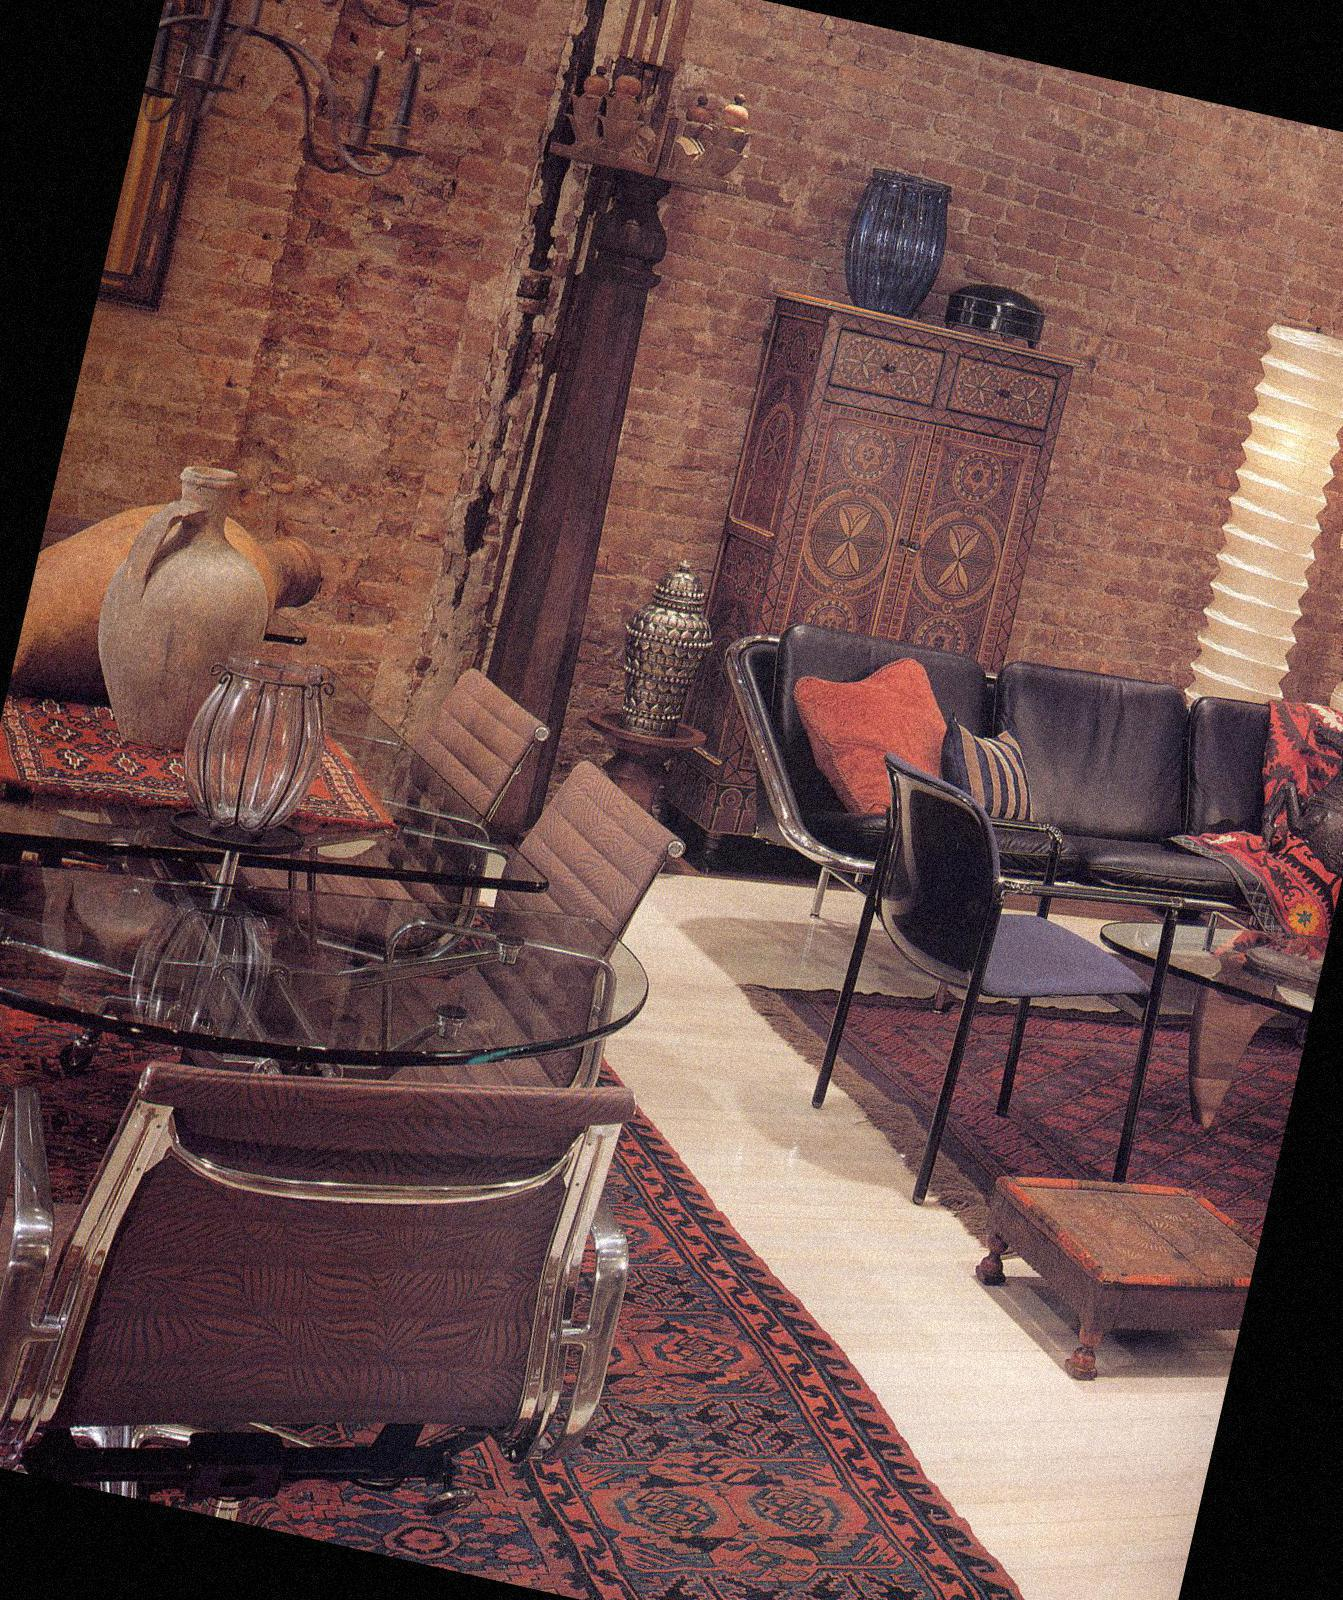Armario: (666, 302, 1083, 869)
Otro Obstaculo: (1006, 1127, 1274, 1419), (1180, 318, 1343, 707)
